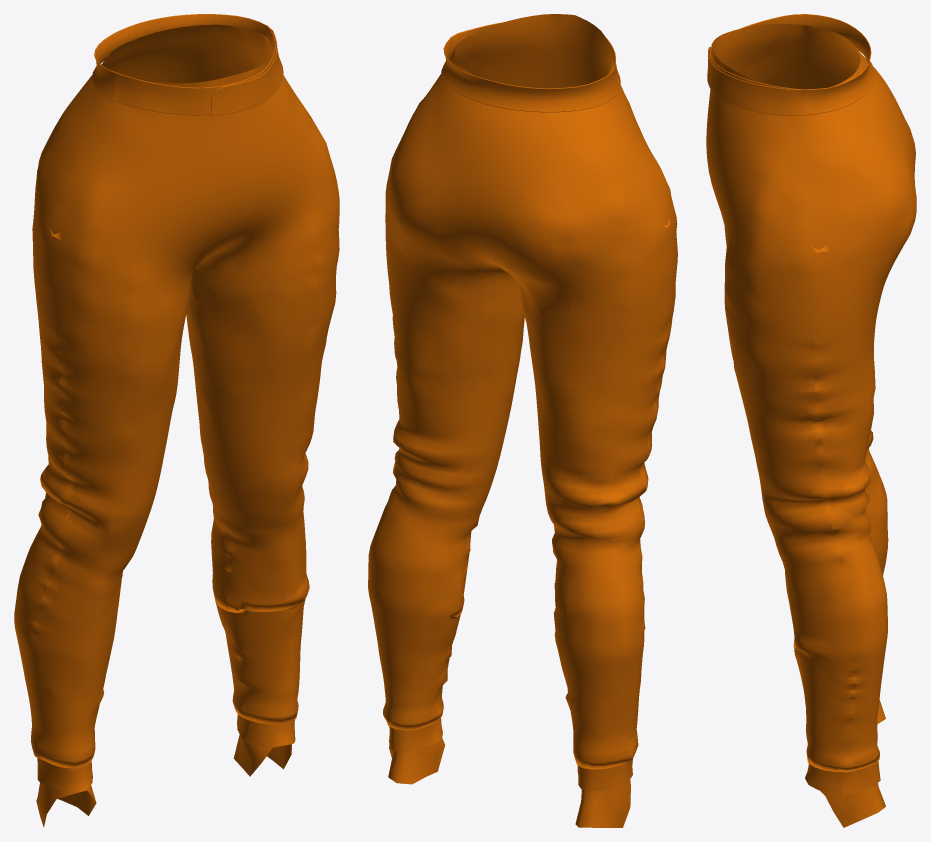
The model's file is calçafemmec.glb.
3 renders of one model, left to right at view 1: azimuth 30°, elevation 25°; view 2: azimuth 150°, elevation 25°; view 3: azimuth 270°, elevation 25°, orthographic. The views are drawn at different scales.
Visible parts, largest first — view 1: hash_99D7DA7D.model; view 2: hash_99D7DA7D.model; view 3: hash_99D7DA7D.model.
Boxes of the visible parts, x1=… form: hash_99D7DA7D.model: x1=14, y1=14, x2=339, y2=827; hash_99D7DA7D.model: x1=368, y1=14, x2=677, y2=827; hash_99D7DA7D.model: x1=706, y1=14, x2=916, y2=827.
Bounding box in the file's own units: 0.4297 × 1.13 × 0.2955.
